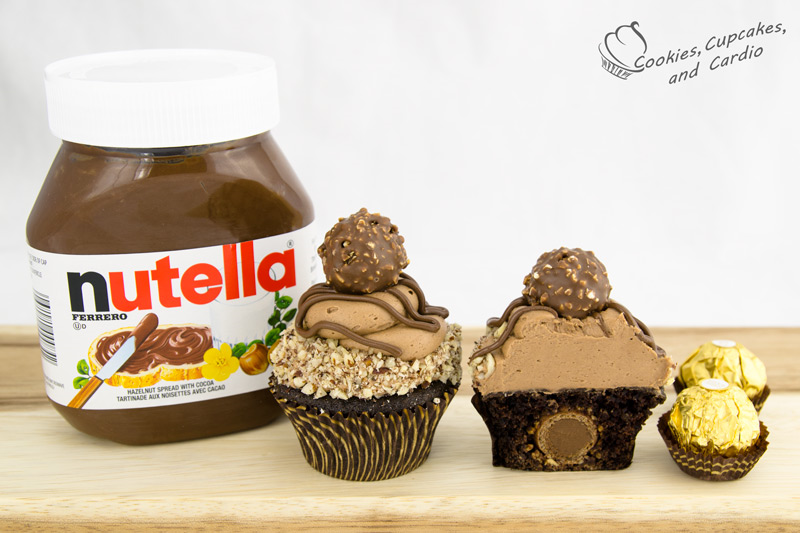nutella: (23, 46, 317, 449)
